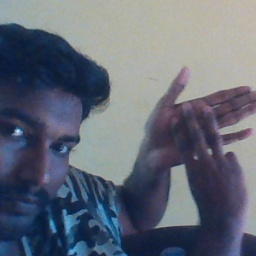M: (141, 65, 256, 226)
